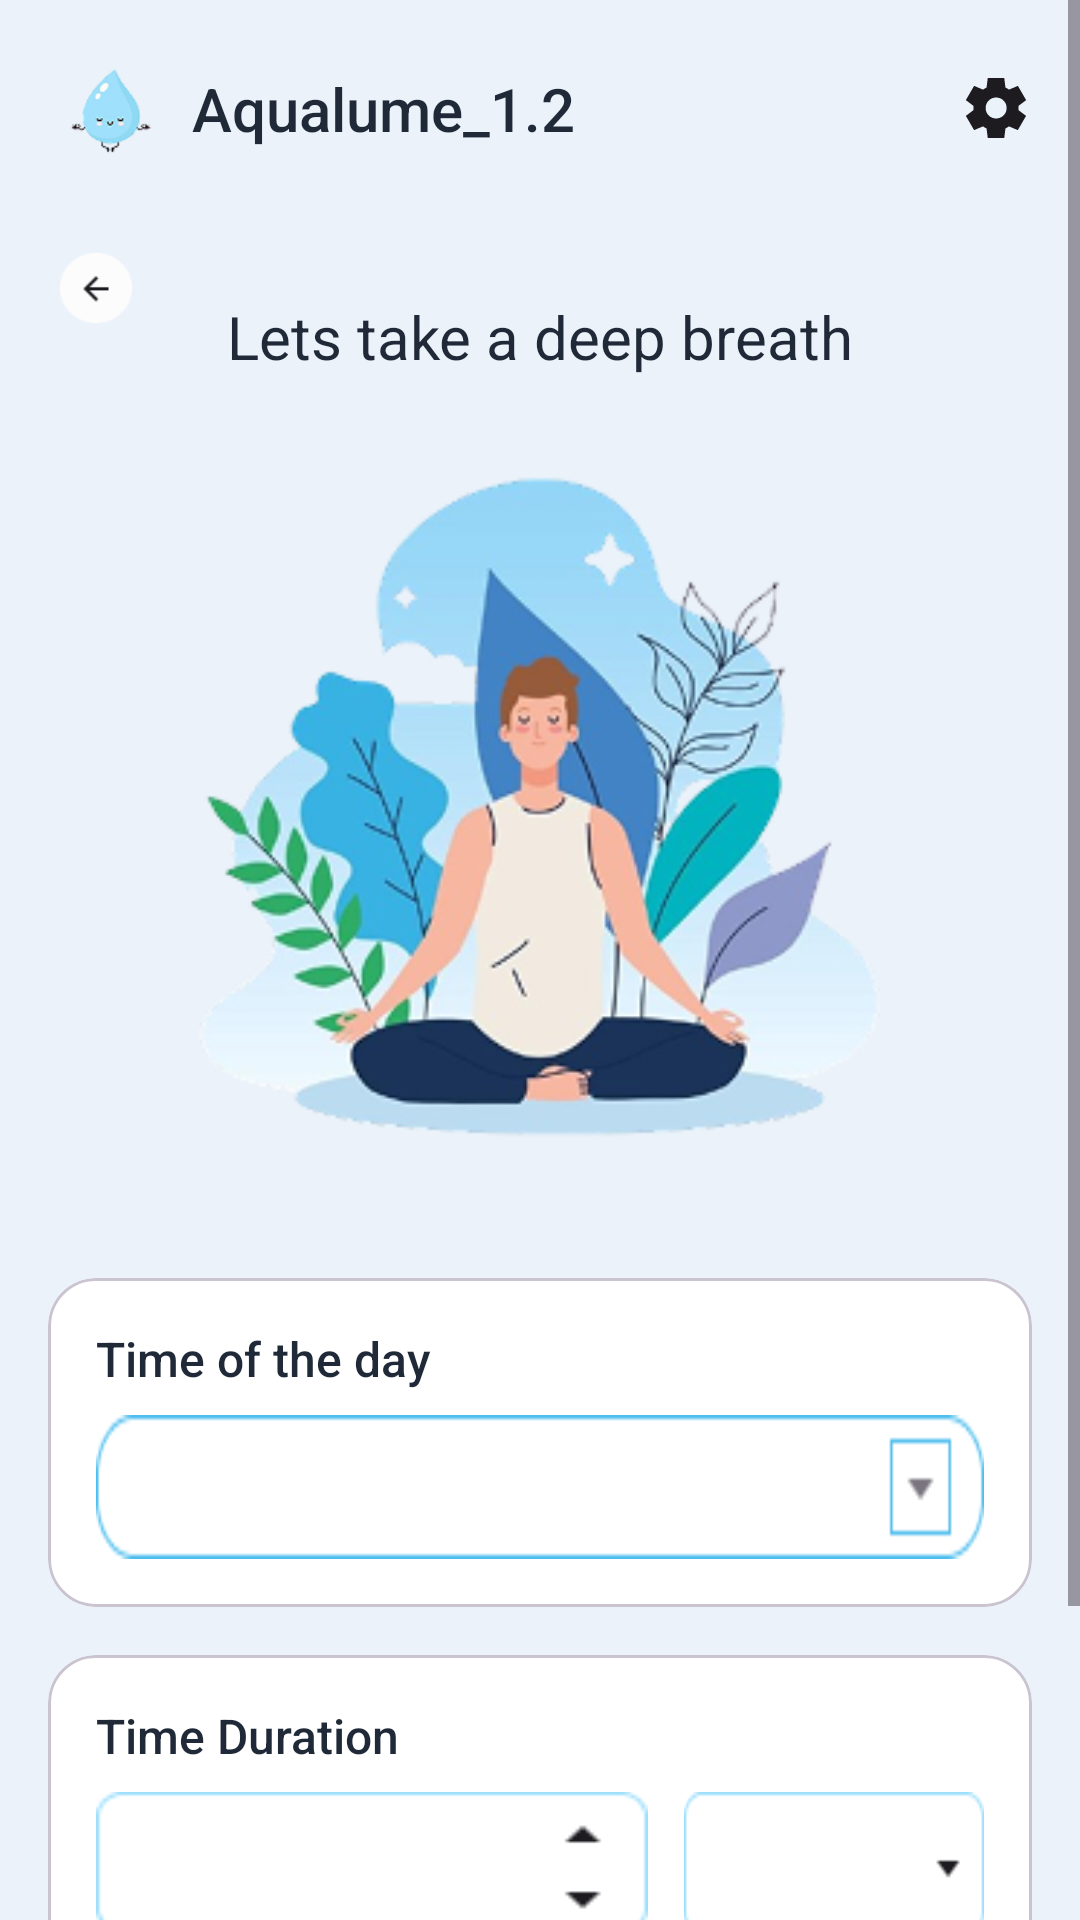

Named icons in this screenshot (1080w x 1920h) and their centers, (x,y):
Back: (96,288)
Settings: (996,108)
